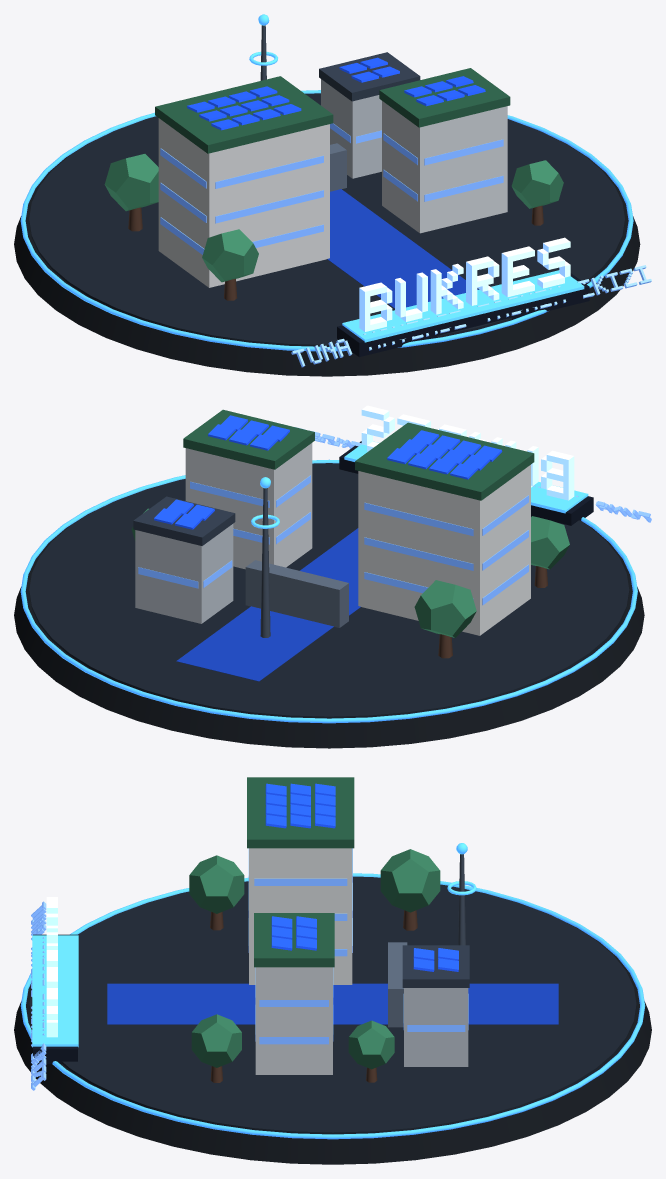
File: bucharest.glb
3 views of the same model, one above another, from view 1: azimuth 30°, elevation 25°; view 2: azimuth 150°, elevation 25°; view 3: azimuth 270°, elevation 25° (orthographic).
Bounding box in the file's own units: 9.89 × 3.19 × 9.89.
